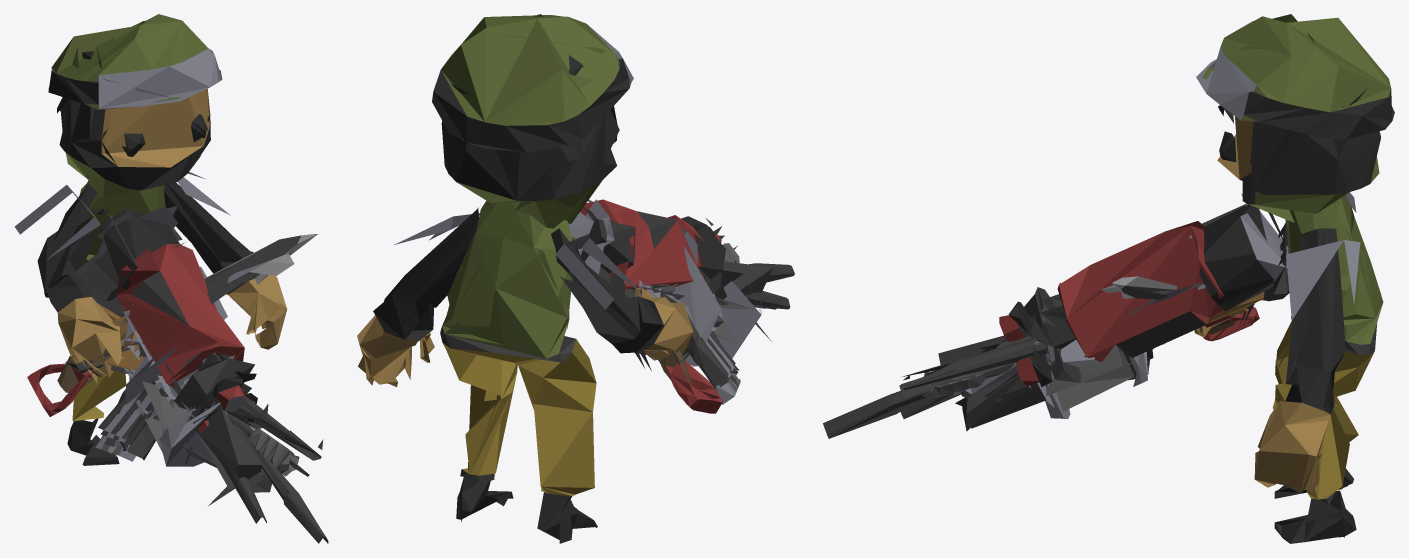
File: modern-soldier.glb
3 views of the same model, side by side, from view 1: azimuth 30°, elevation 25°; view 2: azimuth 150°, elevation 25°; view 3: azimuth 270°, elevation 25° (orthographic). The views are drawn at different scales.
Parts seen in each view (by area): view 1: modern-soldier; view 2: modern-soldier; view 3: modern-soldier.
Boxes of the visible parts, x1=… form: modern-soldier: x1=14, y1=14, x2=328, y2=543; modern-soldier: x1=357, y1=14, x2=794, y2=543; modern-soldier: x1=823, y1=14, x2=1394, y2=543.
Bounding box in the file's own units: 0.6738 × 1 × 1.05.
